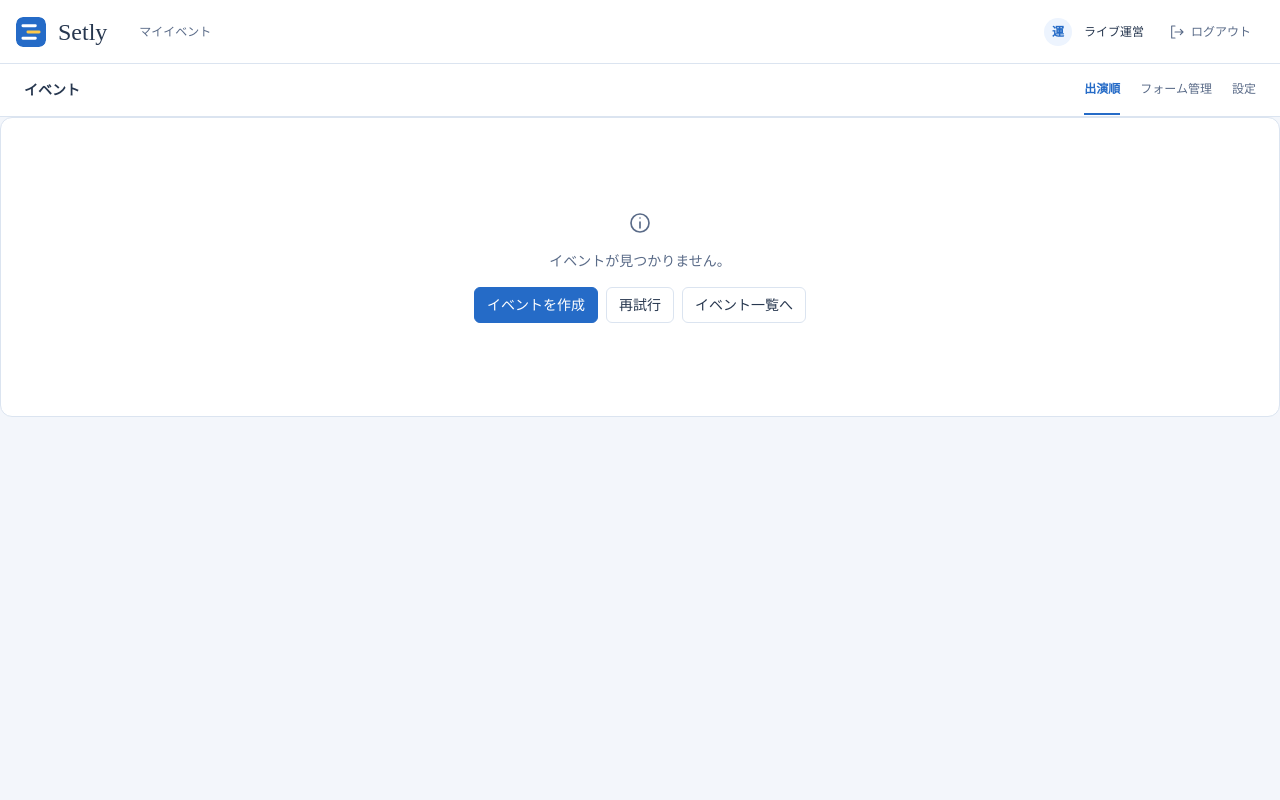
Scenario: event creation entry points › opens the creation form from an unavailable event and can return to the list
Check: the text "イベントが見つかりません。" is shown, box [549,251,731,271]
Click the link "イベントを作成".
click(536, 305)  # box [474,287,598,323]
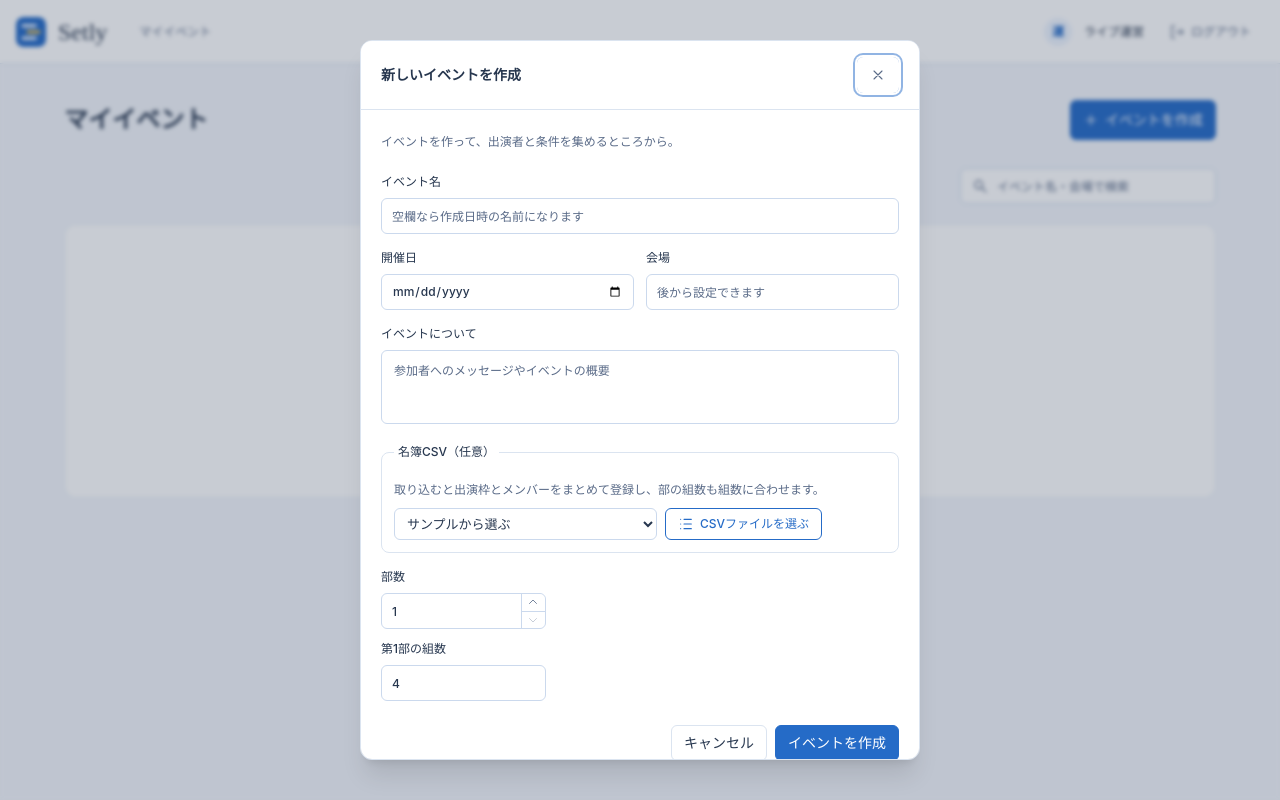
Check: the heading "マイイベント" is shown, box [64,104,208,136]
Check: the dialog "新しいイベントを作成" is shown, box [360,40,920,760]
Click the button "キャンセル".
click(719, 743)  # box [671,725,767,761]
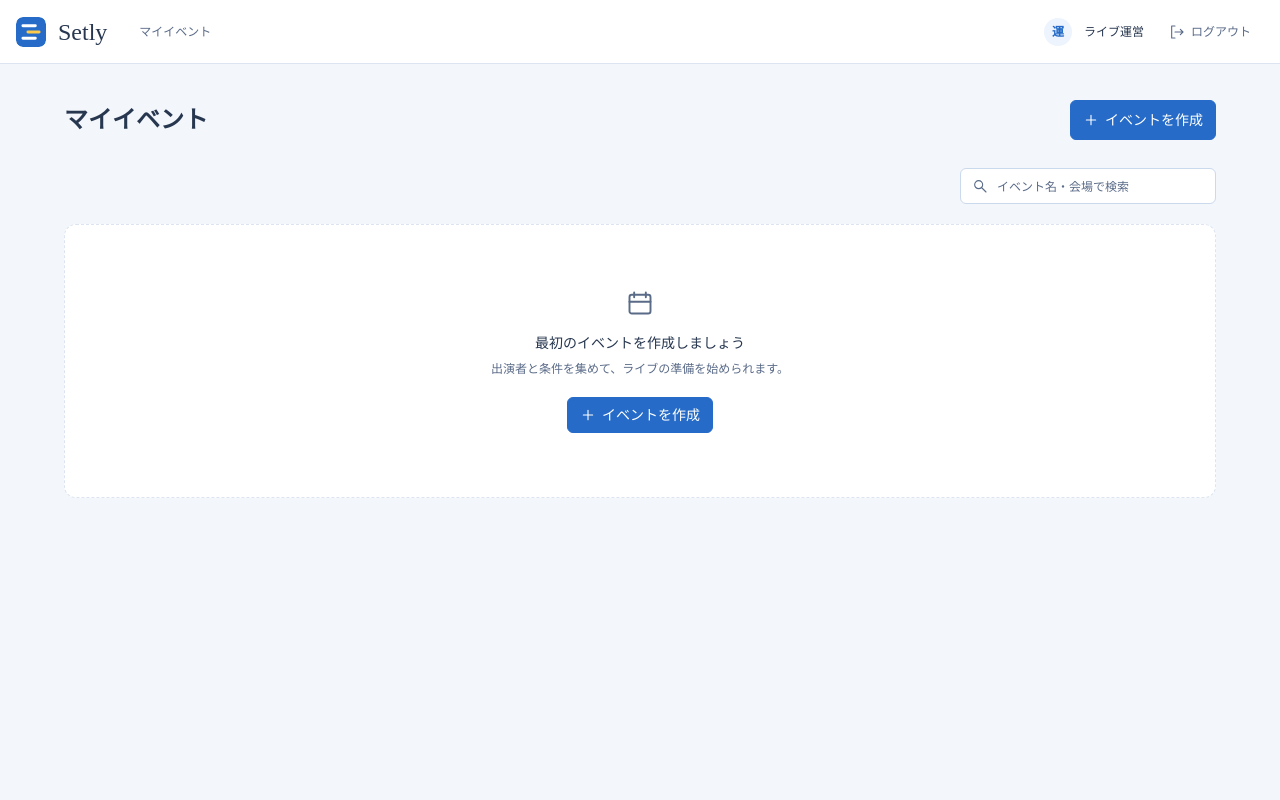
Check: the dialog is gone
Click the 1st button "イベントを作成".
click(1143, 120)  # box [1070,100,1216,140]
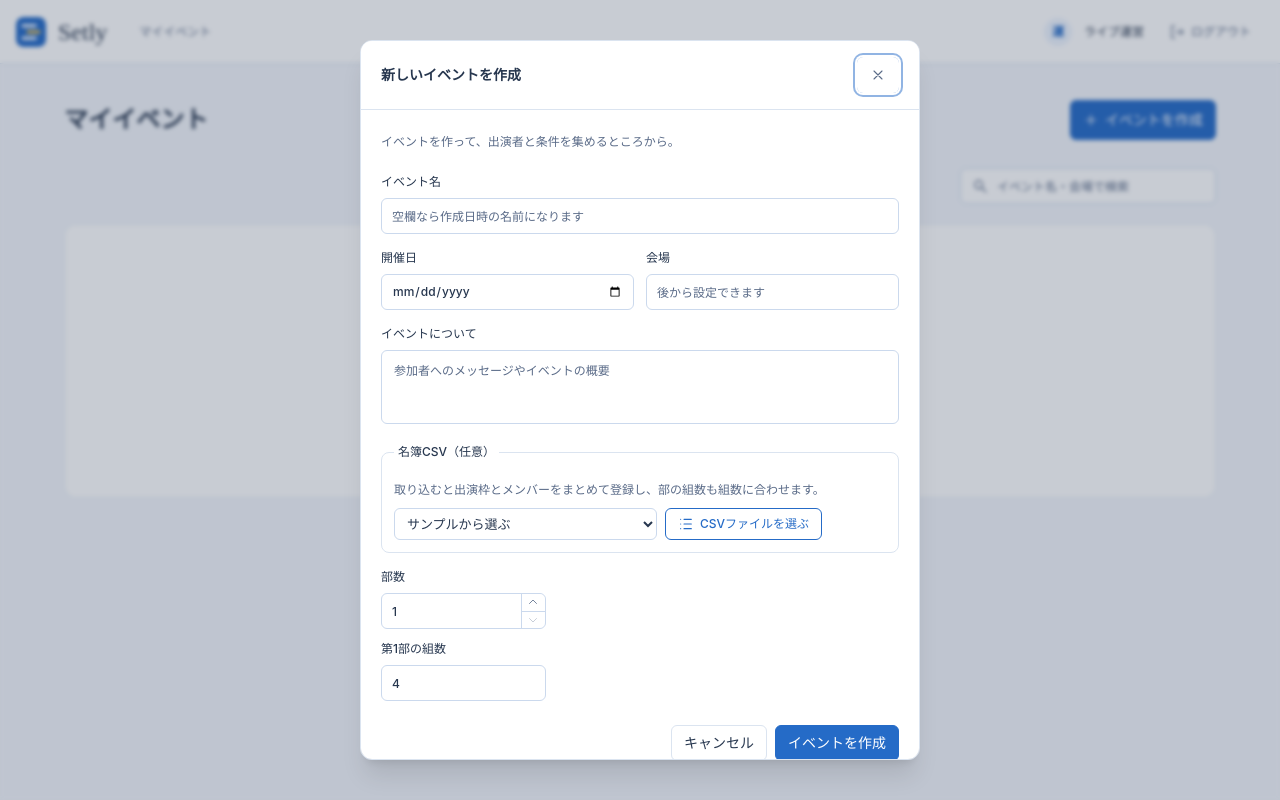
Check: the dialog "新しいイベントを作成" is shown, box [360,40,920,760]
